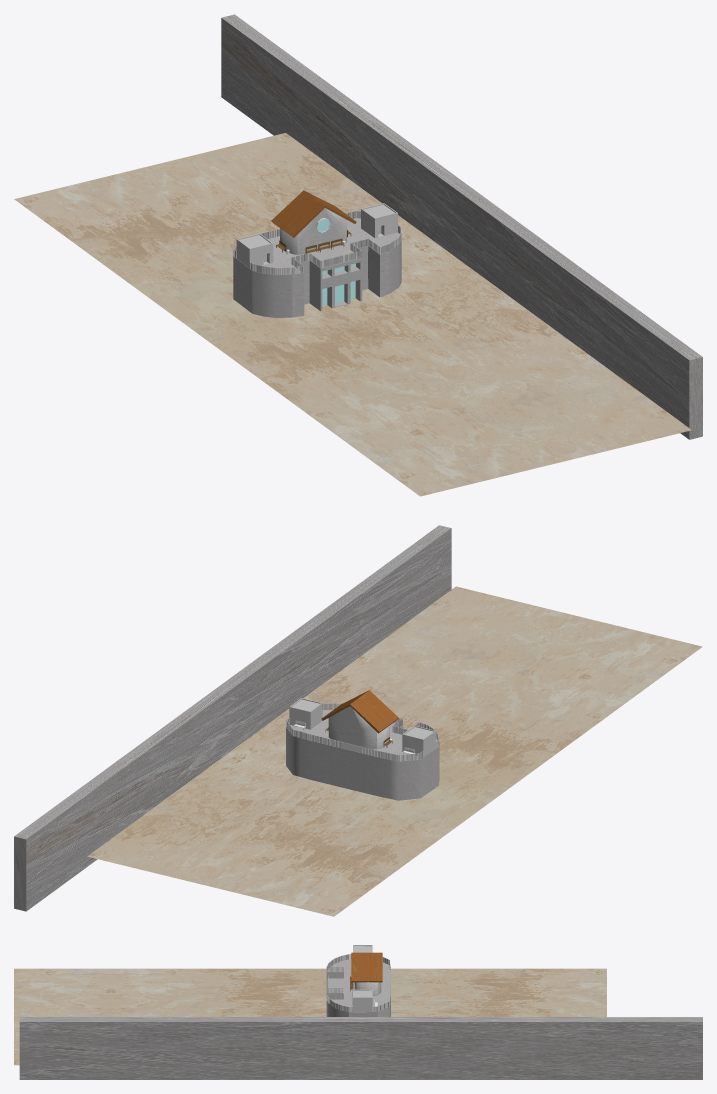
File: okull.fbx
The picture shows the model from 3 angles, top to bottom: view 1: azimuth 30°, elevation 25°; view 2: azimuth 150°, elevation 25°; view 3: azimuth 270°, elevation 25°; orthographic projection. The views are drawn at different scales.
Parts seen in each view (by area): view 1: Okullcs:pPlane5, Okullcs:Background1, Okullcs:anablok, Okullcs:Cit, Okullcs:pasted__pCube5, Okullcs:pCube675, Okullcs:pCube127, Okullcs:pCube128; view 2: Okullcs:pPlane5, Okullcs:Background1, Okullcs:anablok, Okullcs:pasted__pCube5, Okullcs:Cit, Okullcs:pCube675, Okullcs:pCube127, Okullcs:pCube128; view 3: Okullcs:Background1, Okullcs:pPlane5, Okullcs:anablok, Okullcs:pCube675, Okullcs:Cit, Okullcs:pCube127, Okullcs:pasted__pCube5.
Boxes of the visible parts, x1,y1,x2,y2 form: Okullcs:pPlane5: (14, 133, 691, 496); Okullcs:Background1: (221, 14, 702, 439); Okullcs:anablok: (233, 218, 401, 317); Okullcs:Cit: (233, 211, 401, 274); Okullcs:pasted__pCube5: (280, 208, 346, 254); Okullcs:pCube675: (271, 190, 356, 237); Okullcs:pCube127: (361, 203, 397, 237); Okullcs:pCube128: (236, 233, 273, 267); Okullcs:pPlane5: (87, 586, 702, 916); Okullcs:Background1: (14, 525, 451, 911); Okullcs:anablok: (286, 710, 439, 800); Okullcs:pasted__pCube5: (328, 706, 389, 749); Okullcs:Cit: (286, 703, 438, 761); Okullcs:pCube675: (321, 690, 398, 733); Okullcs:pCube127: (289, 698, 322, 729); Okullcs:pCube128: (402, 725, 435, 756); Okullcs:Background1: (19, 1017, 702, 1079); Okullcs:pPlane5: (14, 968, 606, 1065); Okullcs:anablok: (326, 959, 390, 1016); Okullcs:pCube675: (351, 952, 382, 982); Okullcs:Cit: (326, 954, 390, 1012); Okullcs:pCube127: (352, 989, 372, 1011); Okullcs:pasted__pCube5: (354, 982, 381, 996).
Bounding box in the file's own units: 309 × 104 × 882.
